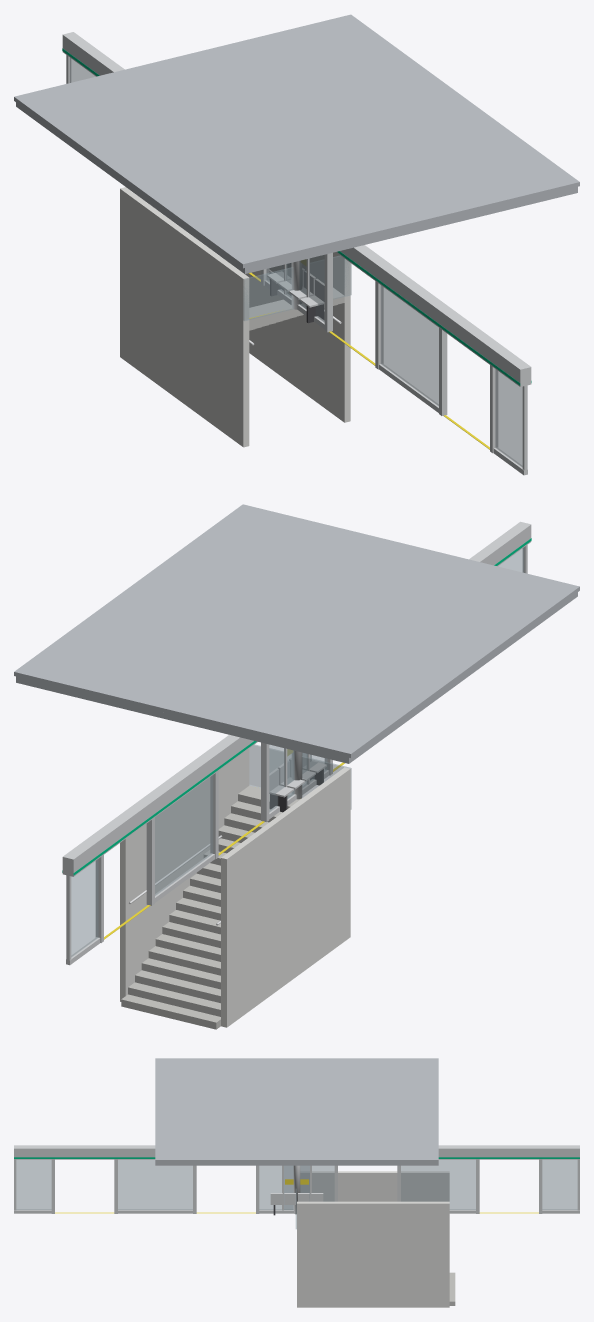
Rendered from station_props.glb.
The picture shows the model from 3 angles, top to bottom: view 1: azimuth 30°, elevation 25°; view 2: azimuth 150°, elevation 25°; view 3: azimuth 270°, elevation 25°; orthographic projection. The views are drawn at different scales.
Visible parts, largest first — view 1: Canopy, Stair, PSDFrame, Bench; view 2: Canopy, Stair, PSDFrame, Bench; view 3: Canopy, Stair, PSDFrame, PSDLeaf, Bench.
Boxes of the visible parts, x1=… form: Canopy: x1=14, y1=14, x2=579, y2=309; Stair: x1=120, y1=187, x2=351, y2=447; PSDFrame: x1=62, y1=32, x2=531, y2=475; Bench: x1=267, y1=263, x2=324, y2=323; Canopy: x1=14, y1=504, x2=579, y2=799; Stair: x1=120, y1=744, x2=351, y2=1029; PSDFrame: x1=62, y1=521, x2=531, y2=965; Bench: x1=269, y1=753, x2=326, y2=812; Canopy: x1=155, y1=1058, x2=438, y2=1214; Stair: x1=295, y1=1171, x2=455, y2=1307; PSDFrame: x1=14, y1=1145, x2=579, y2=1213; PSDLeaf: x1=282, y1=1165, x2=311, y2=1210; Bench: x1=270, y1=1193, x2=323, y2=1215.
Bounding box in the file's own units: 8.5 × 7.11 × 20.
